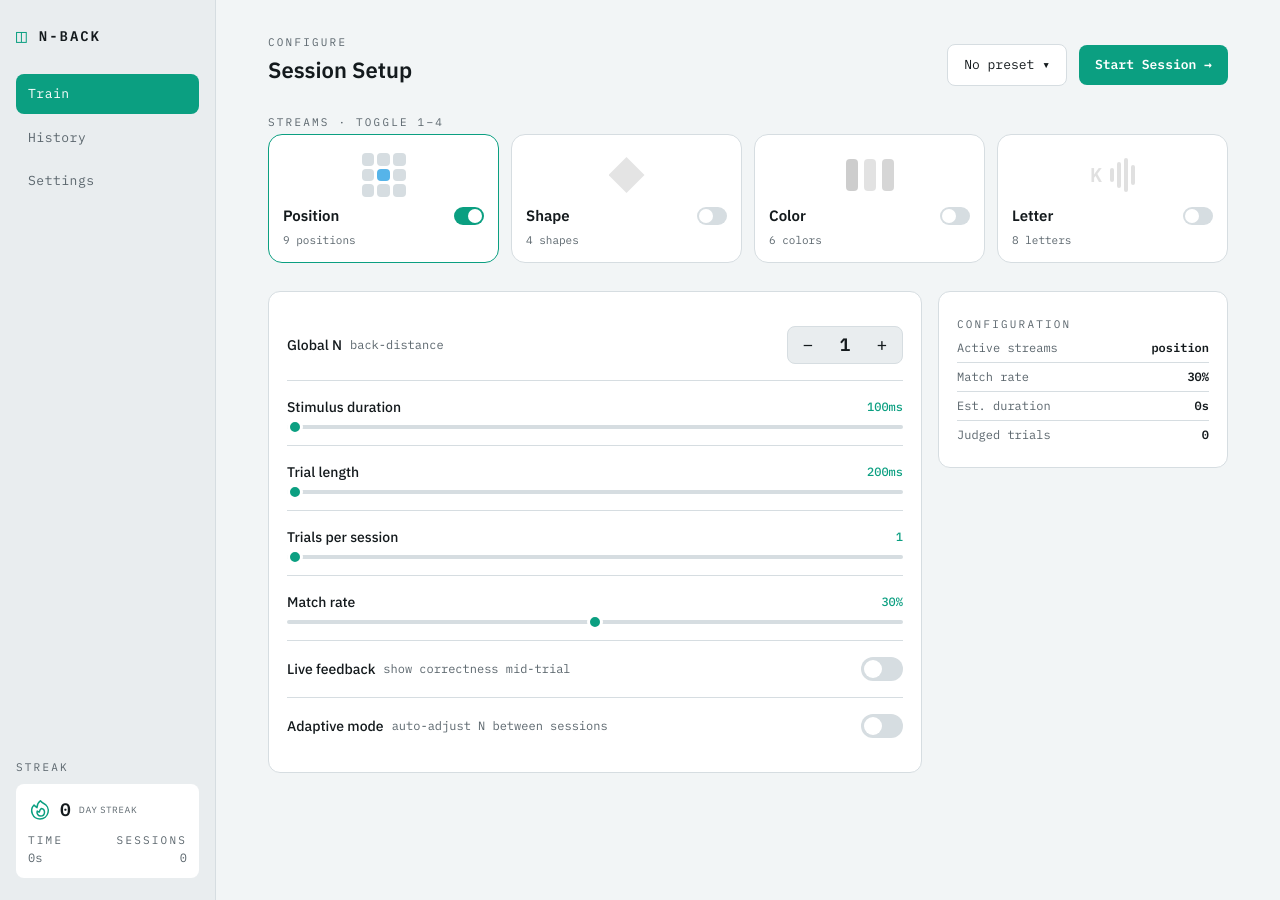
Scenario: App nav bar streak › reflects the updated streak and today stats in the nav bar after a session completes
The image size is (1280, 900).
Check: the text "0" below "time" is shown, box [180,850,187,865]
Click the button "Start Session →". click: {"x": 1154, "y": 65}
box: [1079,45,1228,84]
Wait 2200 ms
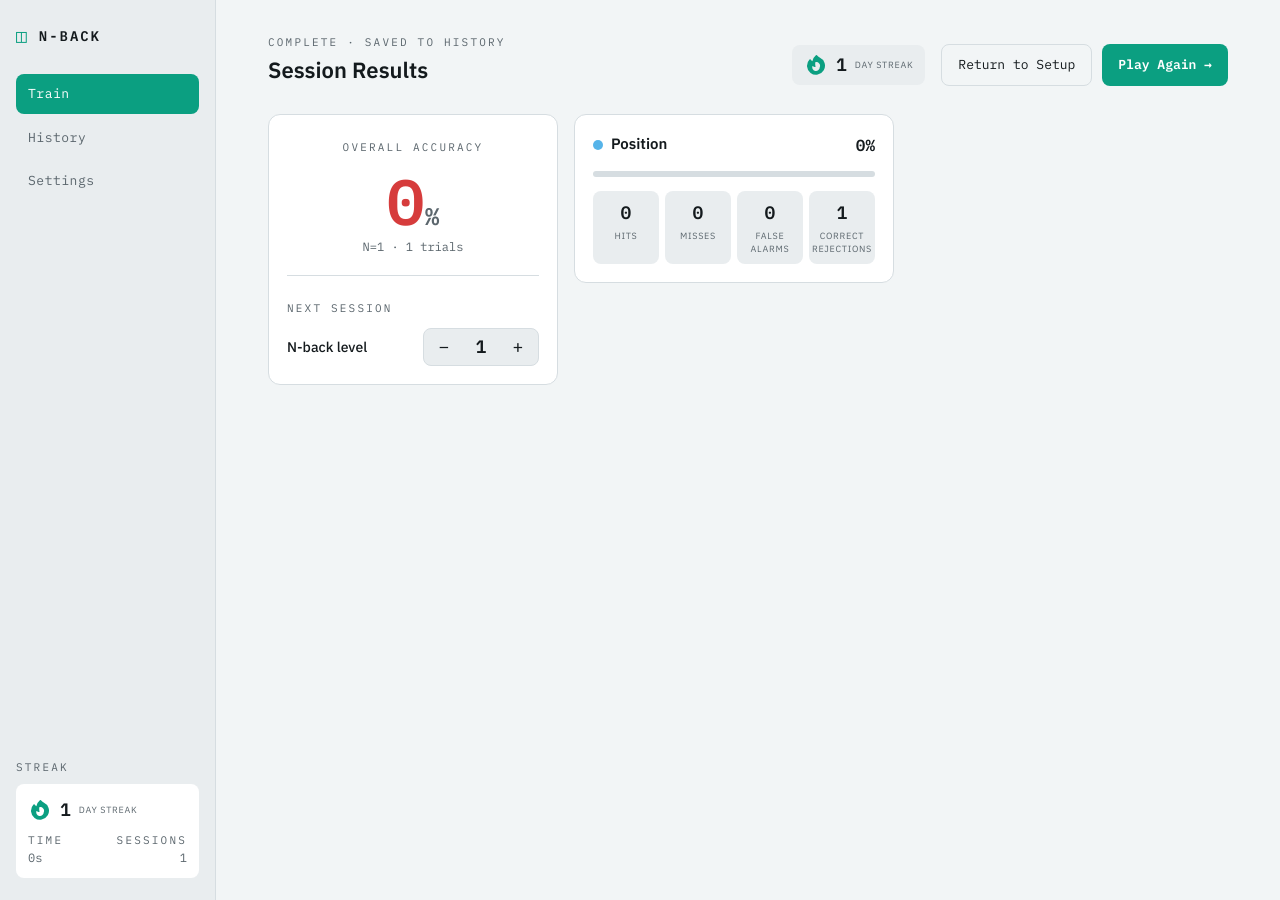
Check: the heading "Session Results" is shown, box [268,54,428,84]
Check: the text "1" below "sessions" is shown, box [180,850,187,865]
